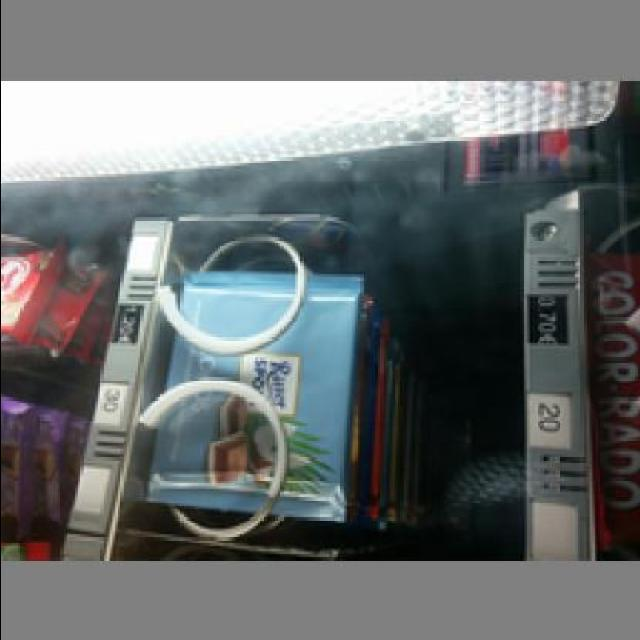Chocolate bar: (150, 263, 367, 511)
